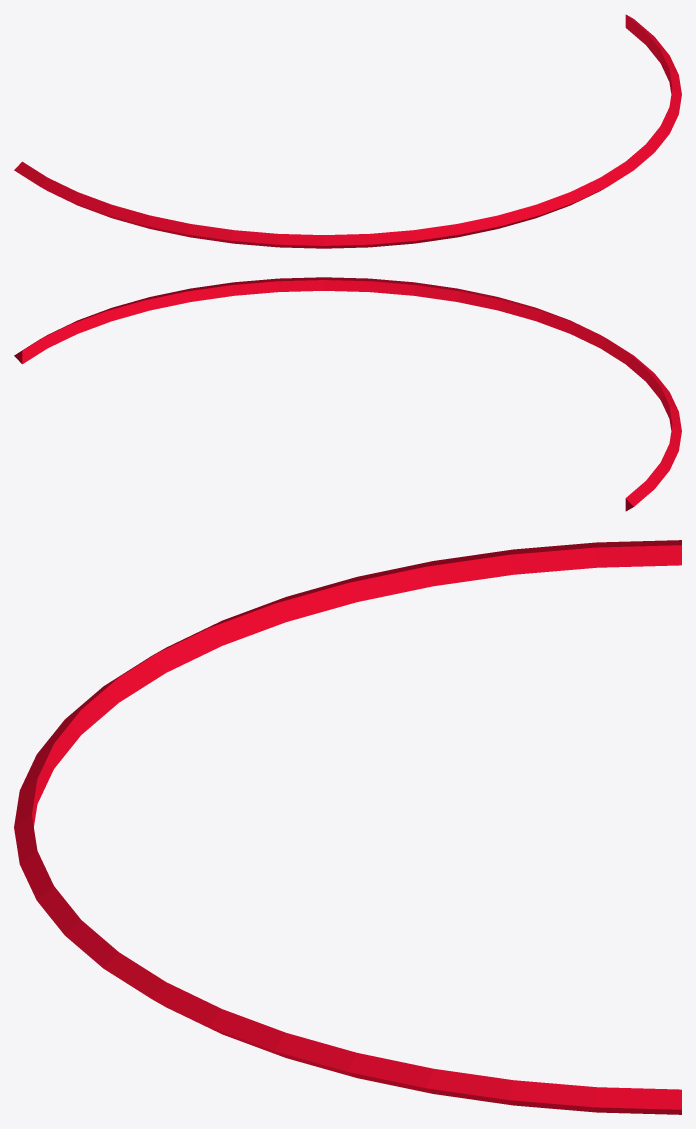
The model's file is Ring1.fbx.
3 renders of one model, top to bottom at view 1: azimuth 30°, elevation 25°; view 2: azimuth 150°, elevation 25°; view 3: azimuth 270°, elevation 25°, orthographic. The views are drawn at different scales.
Visible parts, largest first — view 1: トーラス; view 2: トーラス; view 3: トーラス.
Part boxes in pixels (box(x1,y1,x2,y2)): トーラス: box(14, 14, 681, 248); トーラス: box(14, 277, 681, 511); トーラス: box(14, 540, 681, 1114).
Size of the model in its own units: 395 by 8.27 by 197.
